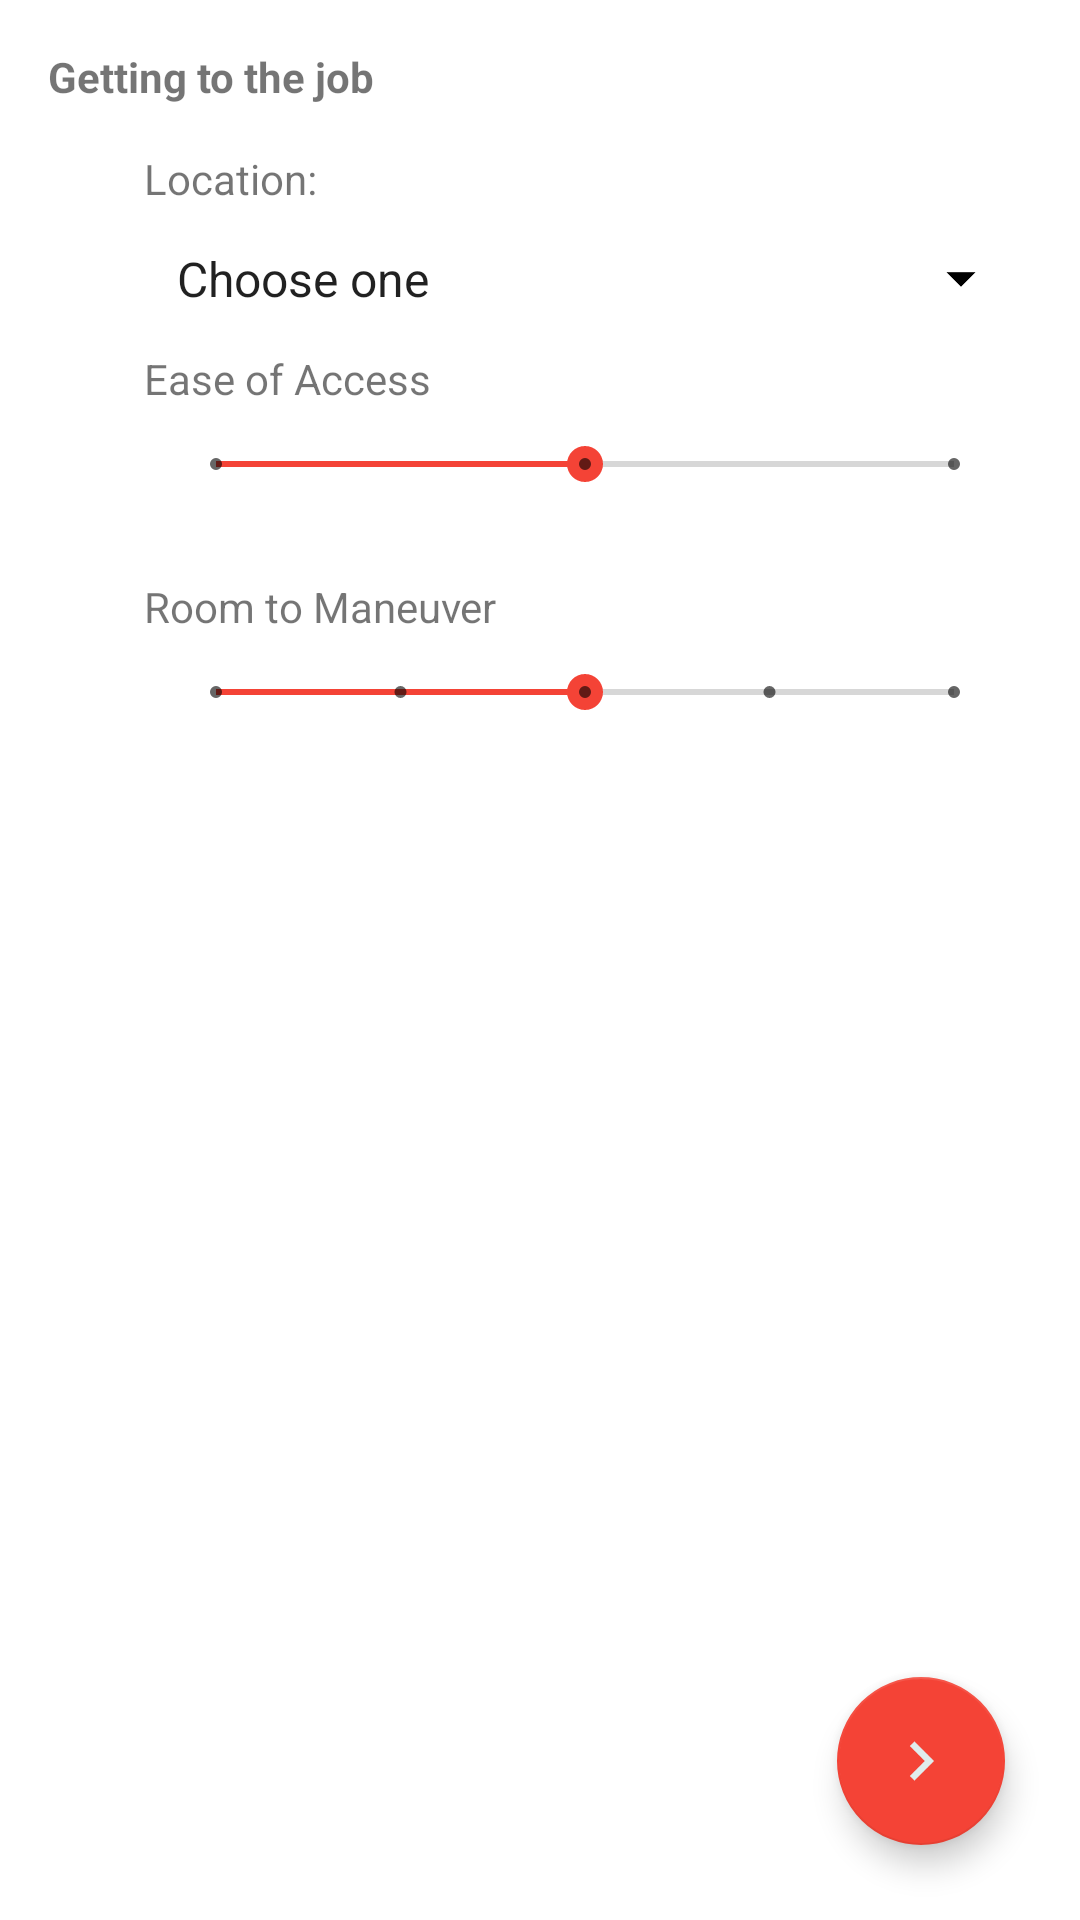

Icon click points for this 1080px x 1920px phone screenshot, format point (x, y):
right arrow: point (921, 1761)
